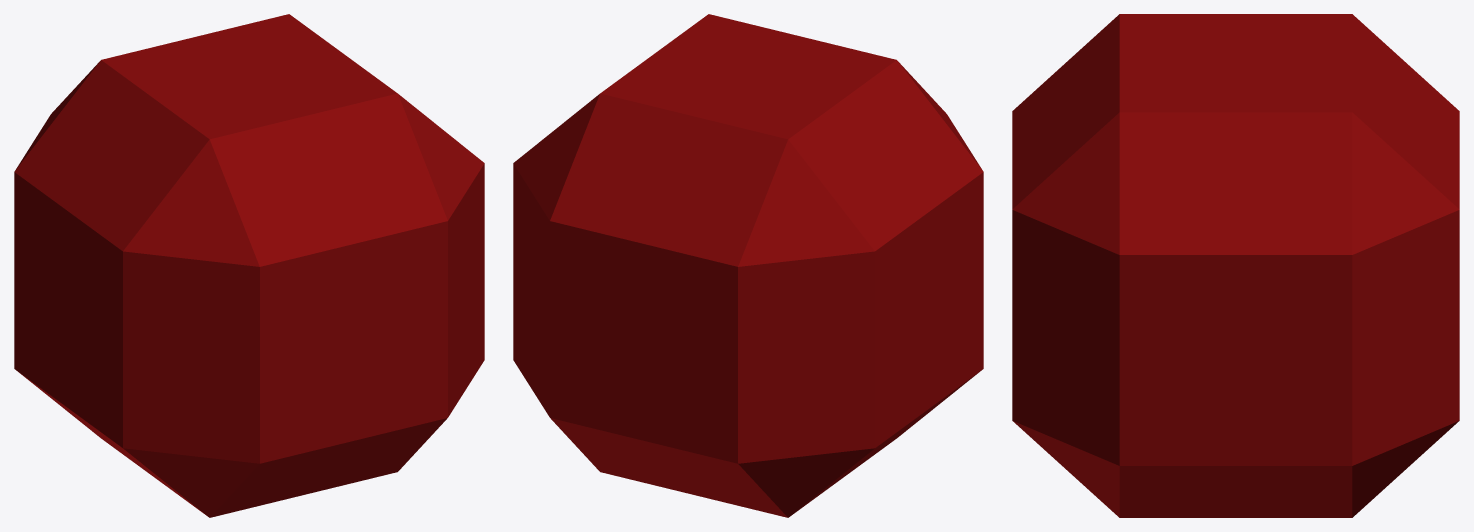
File: fruit.fbx
3 renders of one model, left to right at view 1: azimuth 30°, elevation 25°; view 2: azimuth 150°, elevation 25°; view 3: azimuth 270°, elevation 25°, orthographic. The views are drawn at different scales.
Visible parts, largest first — view 1: fruit; view 2: fruit; view 3: fruit.
Part boxes in pixels (x1=…): fruit: x1=14, y1=14, x2=484, y2=517; fruit: x1=513, y1=14, x2=983, y2=517; fruit: x1=1012, y1=14, x2=1459, y2=517.
Size of the model in its own units: 1.02 by 1.02 by 1.02.
